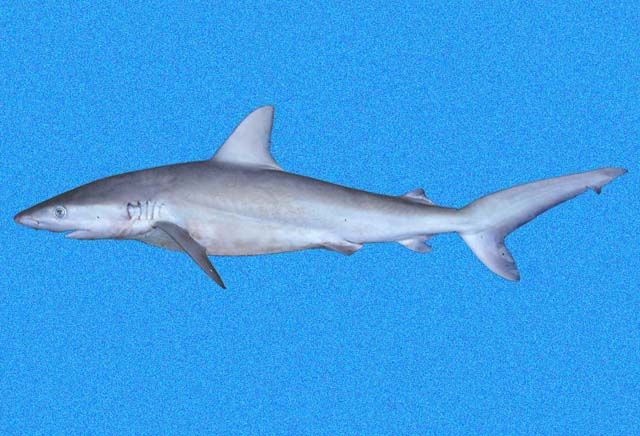fish: (14, 105, 628, 282)
